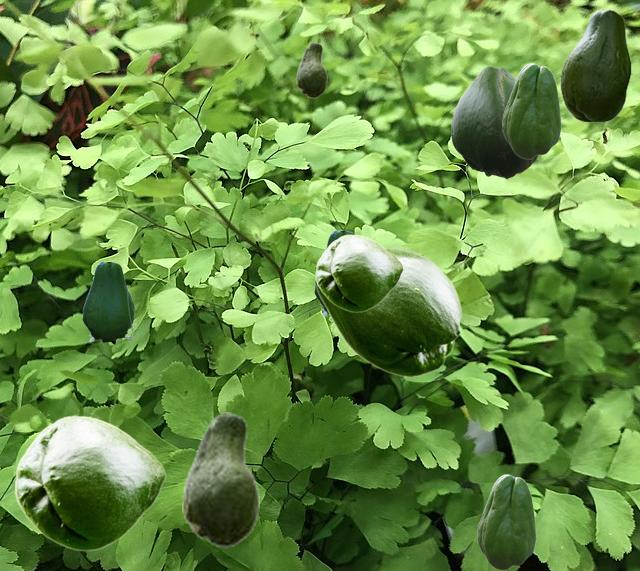sayote: (14, 415, 165, 550), (316, 247, 461, 376), (182, 412, 258, 547), (451, 66, 538, 178), (560, 9, 630, 121), (315, 234, 402, 311), (477, 474, 535, 569), (502, 63, 560, 158), (82, 262, 135, 345), (314, 231, 355, 317), (296, 42, 326, 97)
